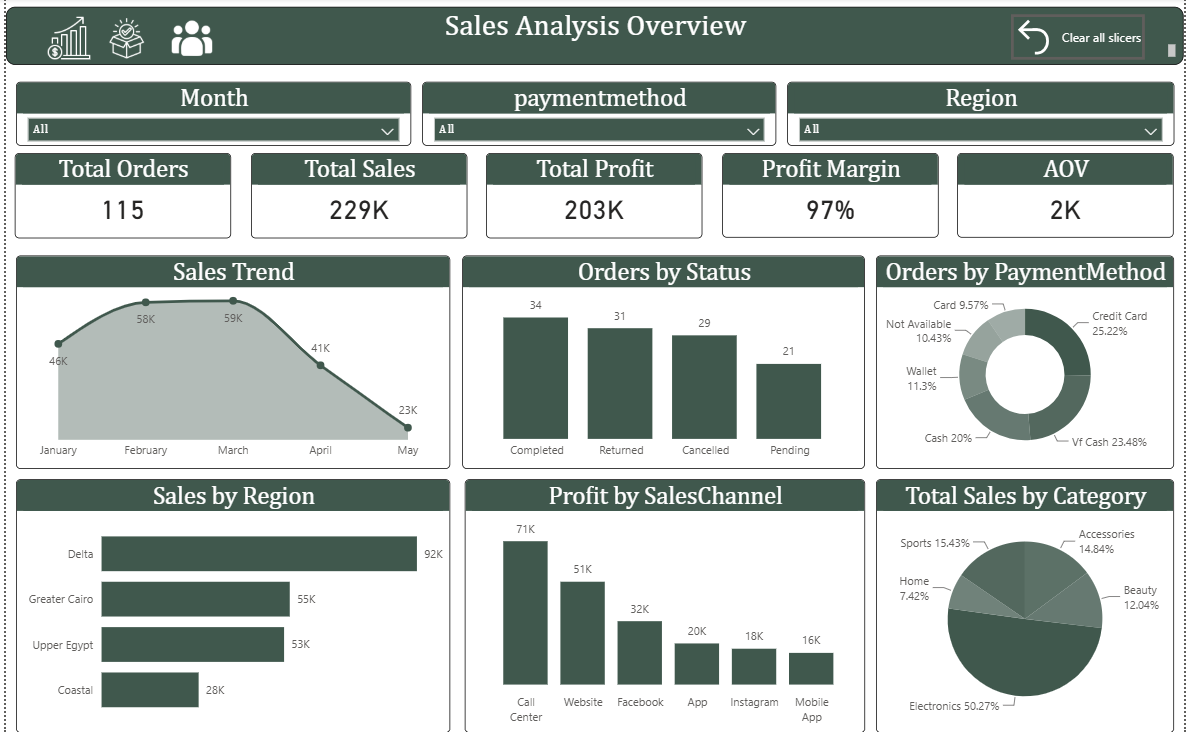

The page's visual inventory and layout, read from the dashboard file:
{"tool":"powerbi","page":{"name":"orders overview","canvas":[1280,800],"ordinal":0},"visuals":[{"type":"textbox","title":" Sales Analysis Overview","box":[0,9.8,1280.3,63.6],"z":0},{"type":"card","title":"Total Orders","fields":{"Values":["Measuress.1.TotalOrders"]},"box":[10,168.5,235,92.9],"z":1000},{"type":"card","title":"Total Sales","fields":{"Values":["Measuress.4.TotalSales"]},"box":[266,168.5,235,92.9],"z":2000},{"type":"slicer","title":"paymentmethod","fields":{"Values":["TotalOrders.PaymentMethod"]},"box":[451.8,90.5,385.2,69.7],"z":3000},{"type":"slicer","title":"Region","fields":{"Values":["TotalOrders.Region"]},"box":[848.6,90.5,420.7,69.7],"z":4000},{"type":"slicer","title":"Month","fields":{"Values":["TotalOrders.OrderDate.Variation.Date Hierarchy.Month"]},"box":[11,90.5,429.2,69.7],"z":5000},{"type":"card","title":"Profit Margin","fields":{"Values":["MEASURESS.Profit Margin"]},"box":[778,168.5,235,92],"z":6000},{"type":"card","title":"Total Profit","fields":{"Values":["Measuress.99.totalprofit"]},"box":[522,168.5,235,92.9],"z":7000},{"type":"card","title":"AOV","fields":{"Values":["Measuress.5.AOV"]},"box":[1034,168.5,235.1,92],"z":8000},{"type":"lineChart","title":"Sales Trend","fields":{"Category":["TotalOrders.OrderDate.Variation.Date Hierarchy.Month","TotalOrders.OrderDate.Variation.Date Hierarchy.Day"],"Y":["Measuress.4.TotalSales"]},"box":[11,280,472,232.3],"z":9000},{"type":"columnChart","title":"Orders by Status","fields":{"Y":["Measuress.1.TotalOrders"],"Category":["TotalOrders.OrderStatus"]},"box":[495.2,280,437.8,232.3],"z":10000},{"type":"donutChart","title":"Orders by PaymentMethod","fields":{"Y":["Measuress.1.TotalOrders"],"Category":["TotalOrders.PaymentMethod"]},"box":[945.2,280,324.1,232.3],"z":11000},{"type":"barChart","title":"Sales by Region","fields":{"Category":["TotalOrders.Region"],"Y":["Measuress.4.TotalSales"]},"box":[11,522.8,472,277.2],"z":12000},{"type":"columnChart","title":"Profit by SalesChannel","fields":{"Category":["TotalOrders.SalesChannel"],"Y":["Sum(TotalOrders.Revenue)"]},"box":[498.1,522.8,435,277.2],"z":13000},{"type":"pieChart","title":"Total Sales by Category ","fields":{"Y":["Measuress.4.TotalSales"],"Category":["TotalOrders.Category"]},"box":[945.5,522.8,323.8,277.2],"z":14000},{"type":"actionButton","box":[1092.3,17.8,145.5,49.4],"z":15000},{"type":"image","box":[20.6,22,222.3,43.9],"z":16000},{"type":"image","box":[11,20.6,115.3,46.7],"z":17000},{"type":"image","box":[179.8,22,45.3,43.9],"z":18000}]}

Visuals, with their boxes in screenshot pixels (x1, y1, x2, y2), scaled from the page's 1280x800 canvas onto the 1186x732 screenshot:
" Sales Analysis Overview" textbox: 0, 9, 1185, 67
"Total Orders" card: 9, 154, 227, 239
"Total Sales" card: 246, 154, 464, 239
"paymentmethod" slicer: 419, 83, 776, 147
"Region" slicer: 786, 83, 1176, 147
"Month" slicer: 10, 83, 408, 147
"Profit Margin" card: 721, 154, 939, 238
"Total Profit" card: 484, 154, 701, 239
"AOV" card: 958, 154, 1176, 238
"Sales Trend" lineChart: 10, 256, 448, 469
"Orders by Status" columnChart: 459, 256, 864, 469
"Orders by PaymentMethod" donutChart: 876, 256, 1176, 469
"Sales by Region" barChart: 10, 478, 448, 731
"Profit by SalesChannel" columnChart: 462, 478, 865, 731
"Total Sales by Category " pieChart: 876, 478, 1176, 731
actionButton: 1012, 16, 1147, 61
image: 19, 20, 225, 60
image: 10, 19, 117, 62
image: 167, 20, 209, 60
